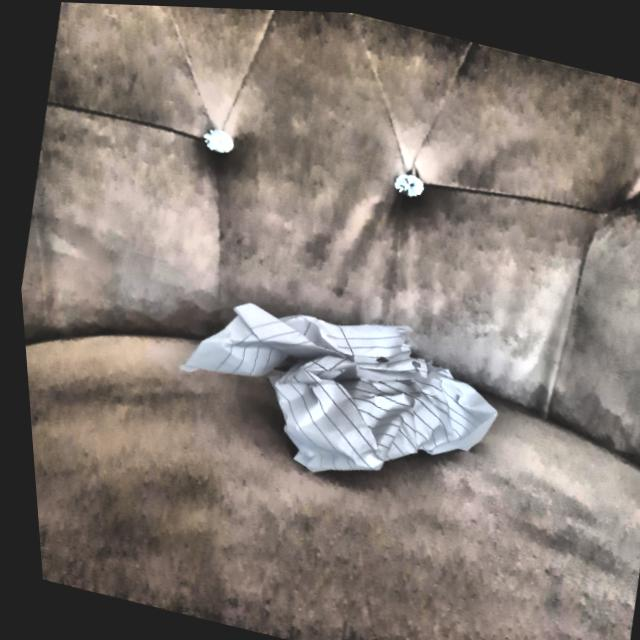Paper: (153, 268, 524, 516)
